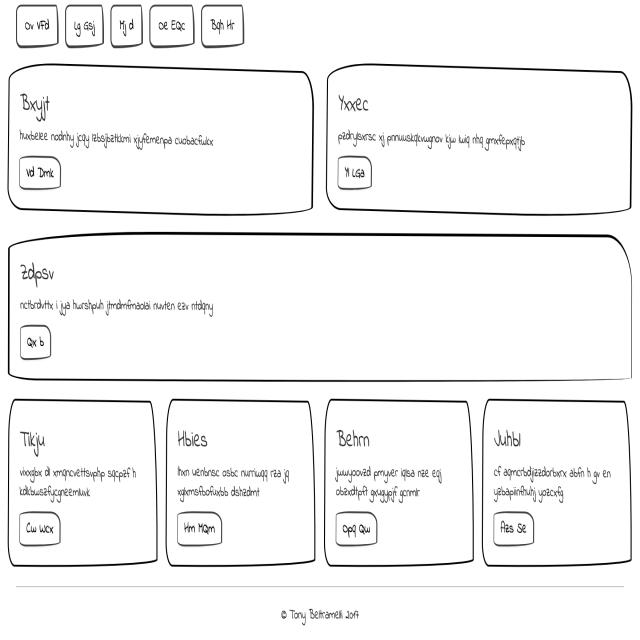Button: (331, 510, 388, 551), (17, 151, 62, 195), (16, 516, 69, 552), (176, 514, 228, 547), (492, 514, 536, 550), (21, 323, 51, 362), (339, 159, 375, 191)
Card: (3, 232, 640, 392), (324, 56, 635, 222), (6, 60, 316, 223), (6, 400, 158, 572), (163, 401, 317, 567), (484, 398, 633, 569), (324, 399, 473, 569)
Footer: (3, 576, 640, 640)
Heading 6: (333, 82, 397, 130), (14, 249, 67, 288), (333, 418, 379, 462), (16, 84, 57, 125), (18, 418, 56, 462), (175, 426, 222, 459), (492, 422, 526, 453)
Navigation Bar: (9, 0, 268, 52)
Paragraph: (17, 289, 228, 322), (333, 123, 541, 154), (15, 122, 220, 152), (491, 459, 617, 504), (330, 462, 452, 507), (175, 463, 296, 504), (15, 464, 138, 502)
